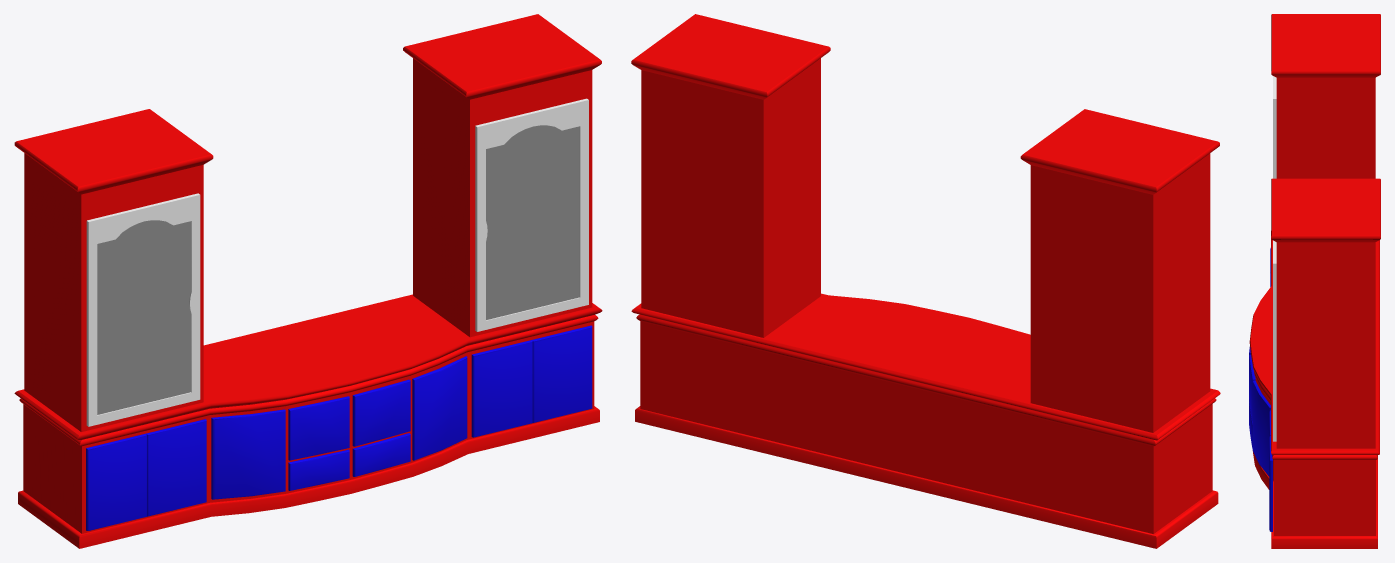
The model's file is rosewood_tv_cabinet.FBX.
The picture shows the model from 3 angles, left to right: view 1: azimuth 30°, elevation 25°; view 2: azimuth 150°, elevation 25°; view 3: azimuth 270°, elevation 25°; orthographic projection. The views are drawn at different scales.
Parts seen in each view (by area): view 1: base, top, glass; view 2: top, base; view 3: top, base.
Boxes of the visible parts, box(x1,y1,x2,y2) form: base: box(14, 294, 602, 548); top: box(14, 14, 601, 431); glass: box(97, 125, 579, 414); top: box(631, 14, 1219, 432); base: box(631, 293, 1220, 548); top: box(1271, 14, 1380, 448); base: box(1249, 231, 1379, 548).
Bounding box in the file's own units: 3.01 × 0.7539 × 1.98.
